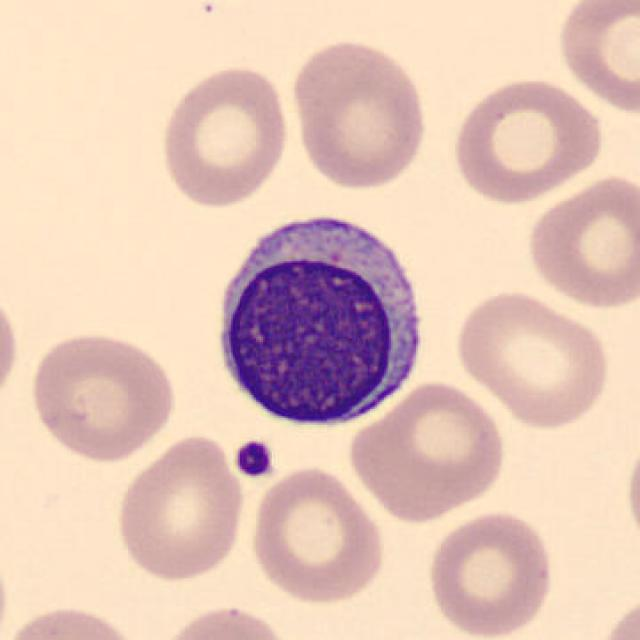Lymphocyte: (206, 202, 434, 434)
Platelets: (230, 436, 276, 482)
RBC: (345, 377, 510, 524), (450, 288, 615, 430), (286, 35, 432, 192), (25, 326, 179, 464), (448, 72, 606, 206), (112, 430, 247, 586), (245, 462, 388, 608), (155, 62, 293, 210), (423, 506, 558, 640), (521, 171, 638, 312), (551, 0, 640, 118), (0, 601, 146, 640), (153, 601, 297, 640), (0, 278, 23, 414), (622, 425, 640, 557), (594, 589, 638, 640)
